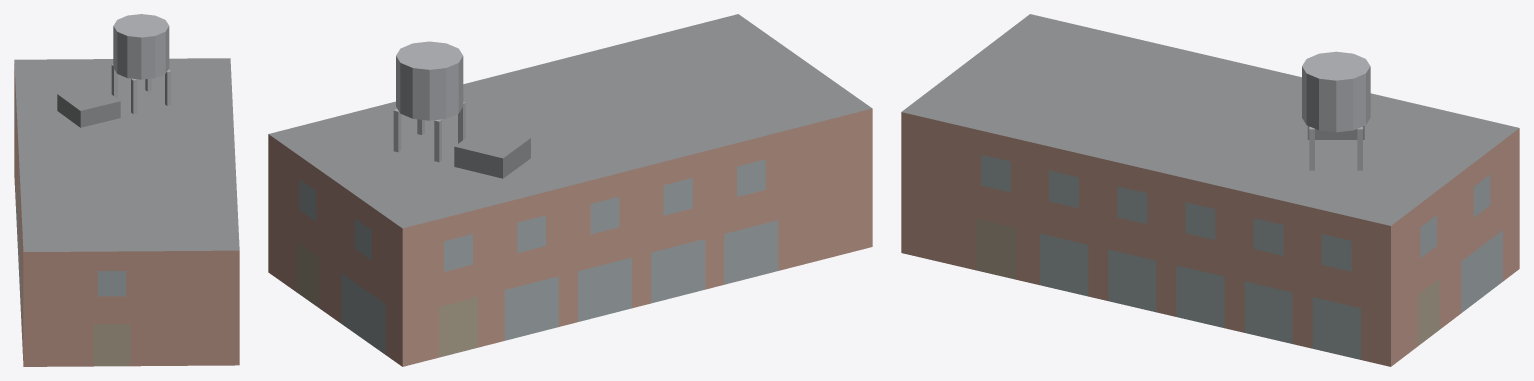
Rendered from doitt-262867__lod_1.glb.
3 renders of one model, left to right at view 1: azimuth 30°, elevation 25°; view 2: azimuth 150°, elevation 25°; view 3: azimuth 270°, elevation 25°, orthographic. The views are drawn at different scales.
Bounding box in the file's own units: 26.37 × 13.57 × 32.5.
